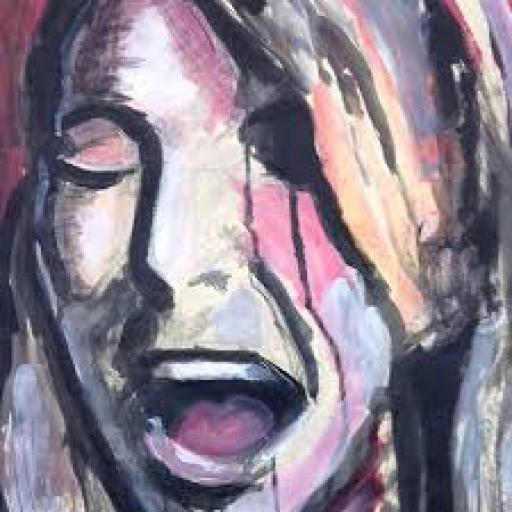person: (4, 0, 512, 512)
